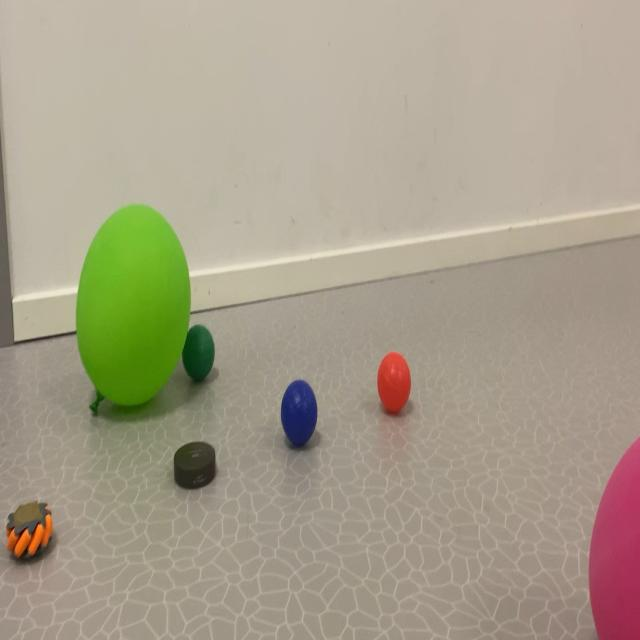7: (360, 326, 432, 469)
blue ball: (185, 306, 424, 462)
green ball: (262, 356, 344, 474)
red ball: (182, 305, 243, 425)
